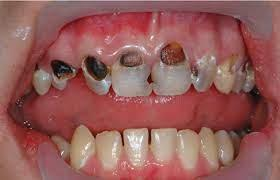Caries: (80, 48, 113, 84), (153, 41, 190, 68), (117, 44, 148, 74), (45, 56, 77, 84), (140, 74, 158, 92), (190, 64, 204, 83)
